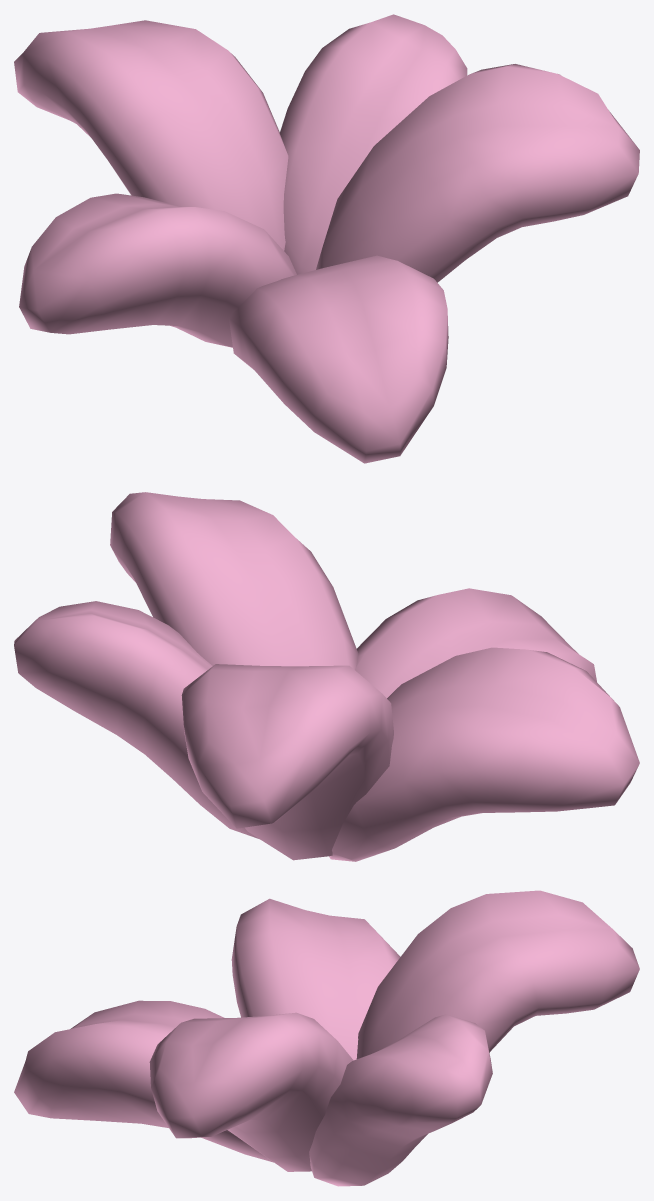
Rendered from Flower_01.fbx.
3 renders of one model, top to bottom at view 1: azimuth 30°, elevation 25°; view 2: azimuth 150°, elevation 25°; view 3: azimuth 270°, elevation 25°, orthographic. The views are drawn at different scales.
Visible parts, largest first — view 1: polySurface698; view 2: polySurface698; view 3: polySurface698.
Part boxes in pixels (x1,y1,x2,y2): polySurface698: (14, 14, 639, 463); polySurface698: (14, 492, 639, 861); polySurface698: (14, 890, 639, 1186).
Bounding box in the file's own units: 57.78 × 26.06 × 62.9.
